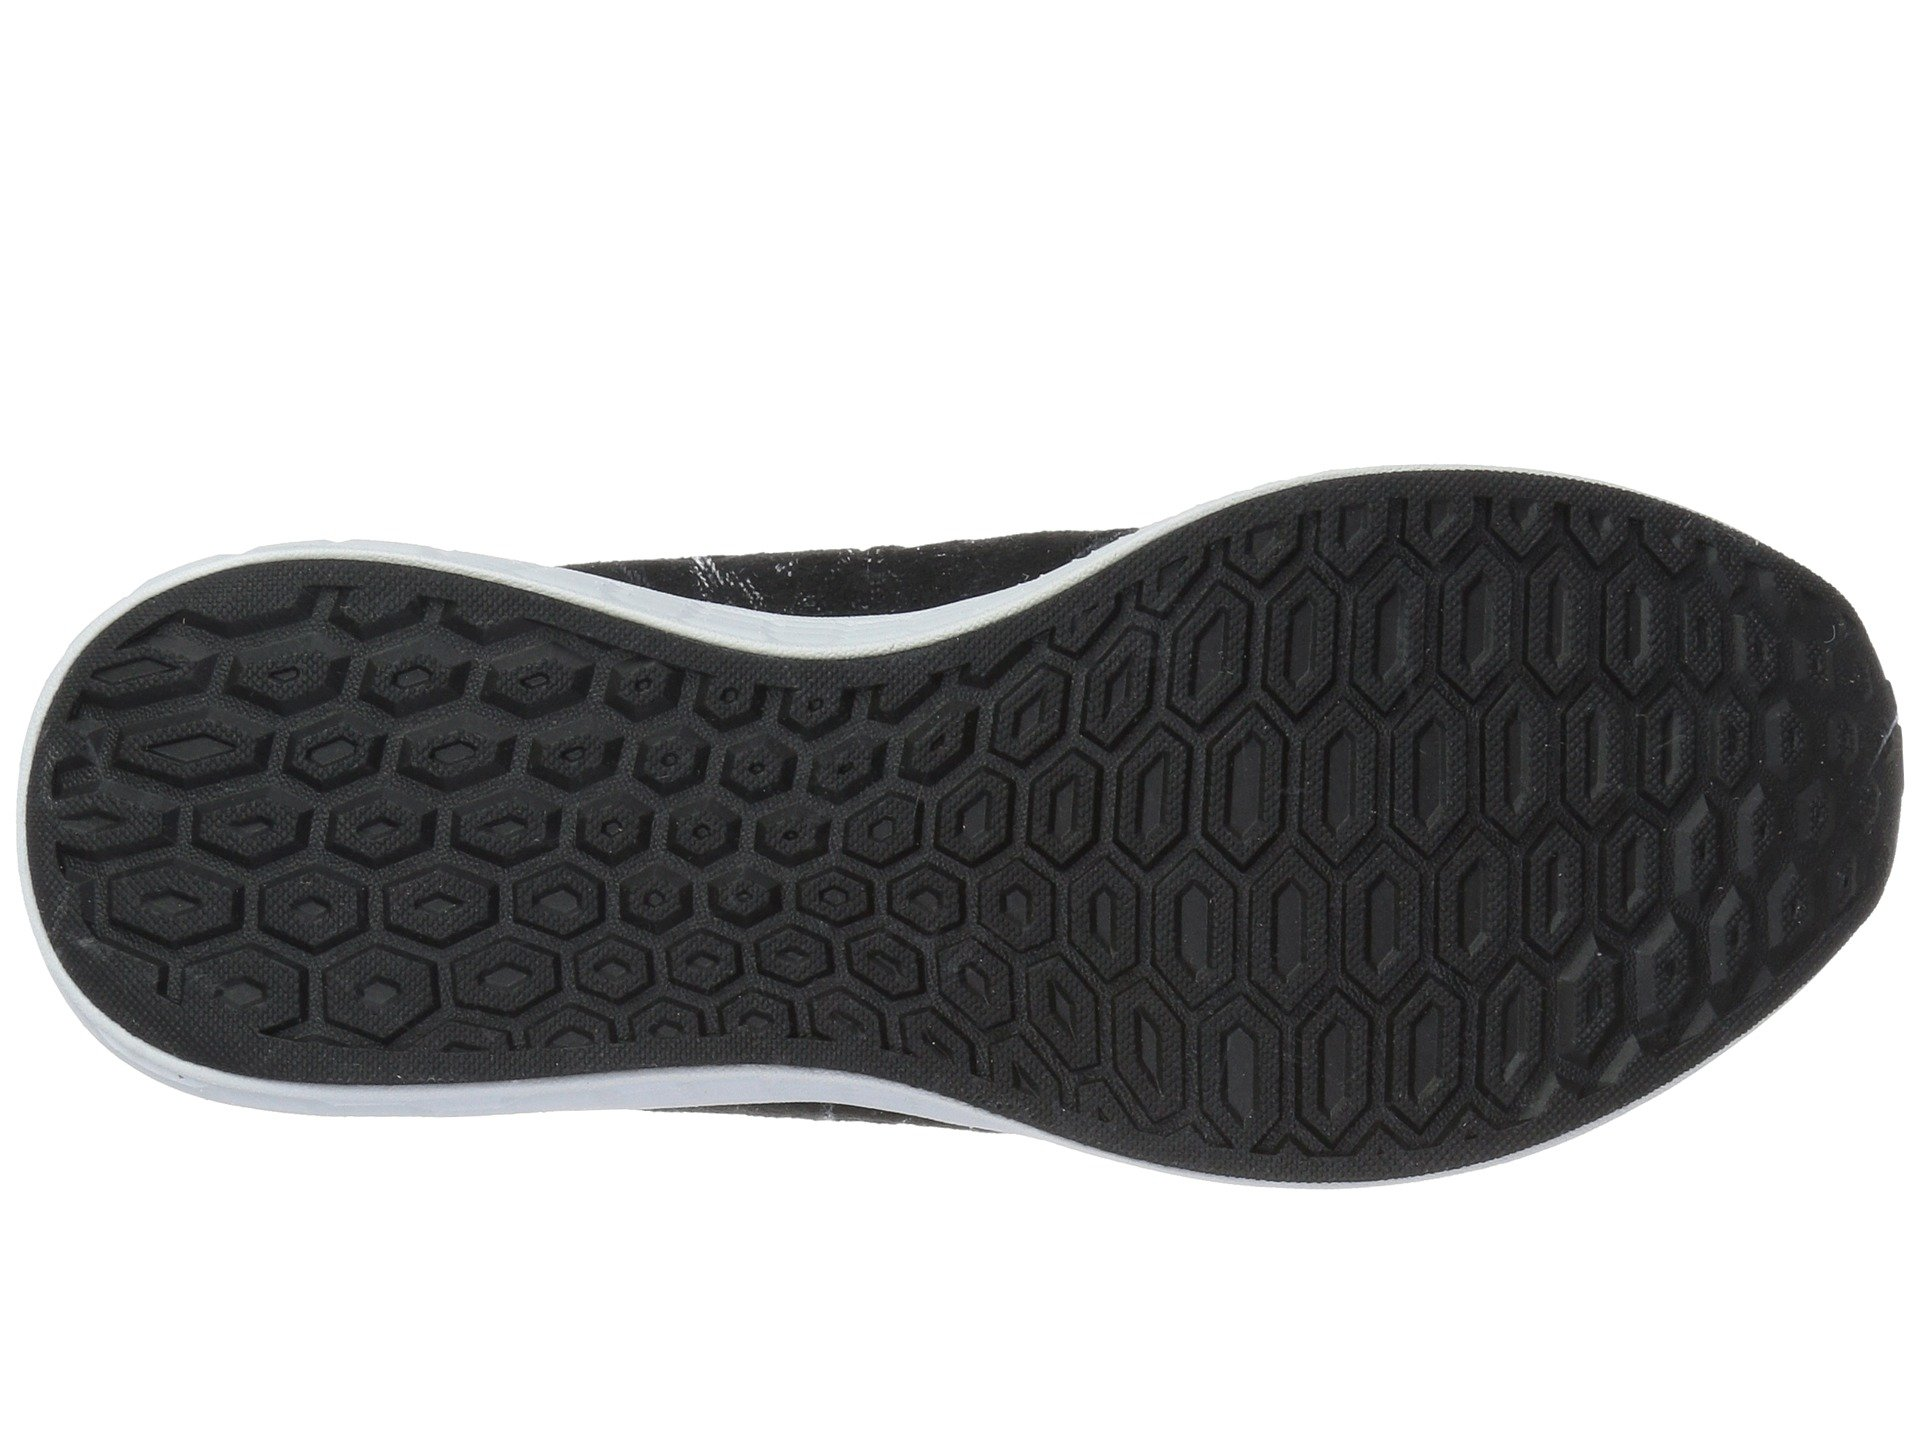circle: (691, 715, 966, 991)
polygon: (1147, 573, 1714, 1044), (691, 715, 966, 991)
